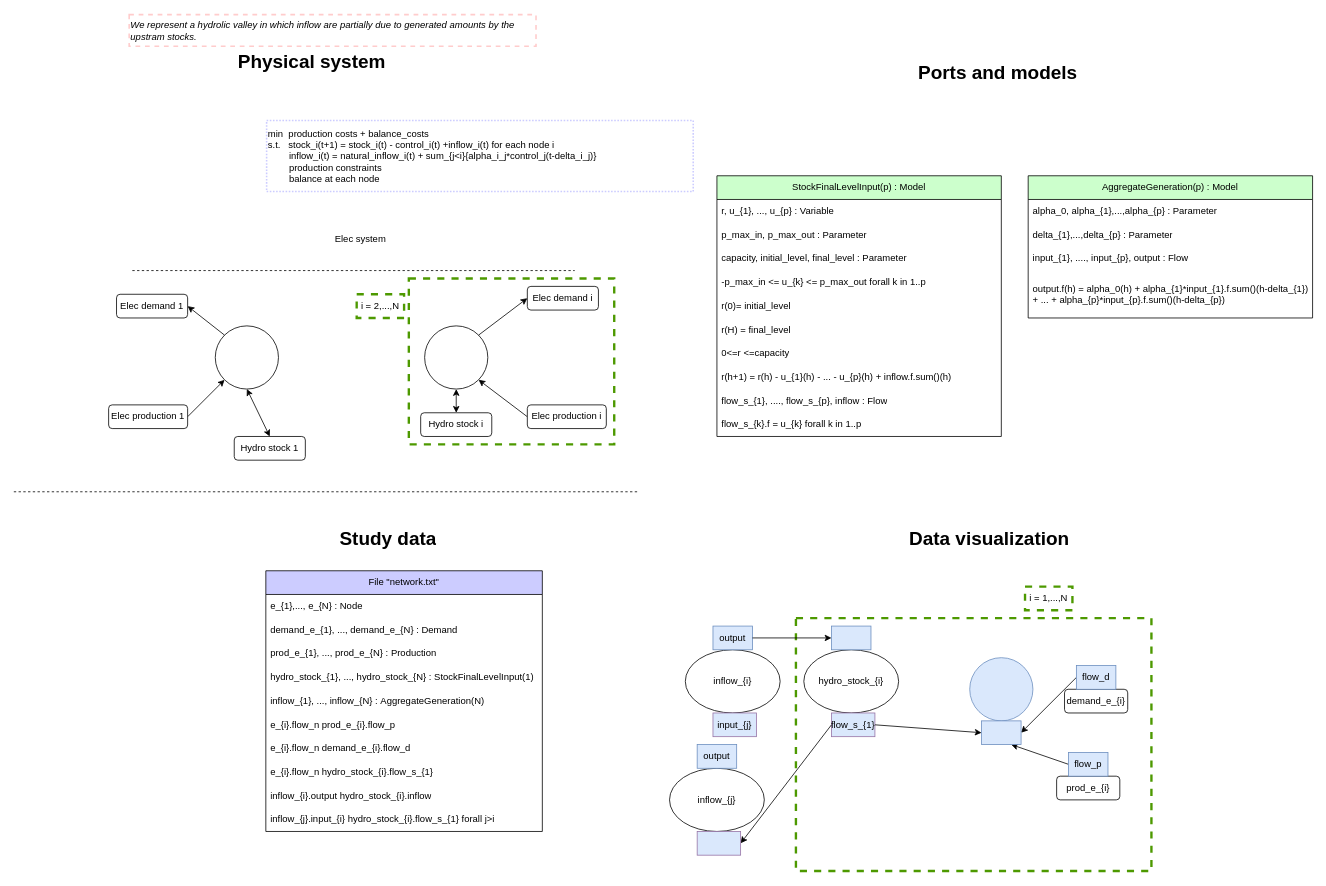
Some shapes in this 1326 by 886 pixel diagram are drawn without their labels. Here are the shapes that lost their labels. From the top down, the centre of each, then its label:
At point (246, 357): "E1".
At point (456, 357): "Ei".
At point (851, 637): "inflow".
At point (1001, 689): "e_{i}".
At point (1001, 732): "flow_n".
At point (718, 843): "input_{i}".
